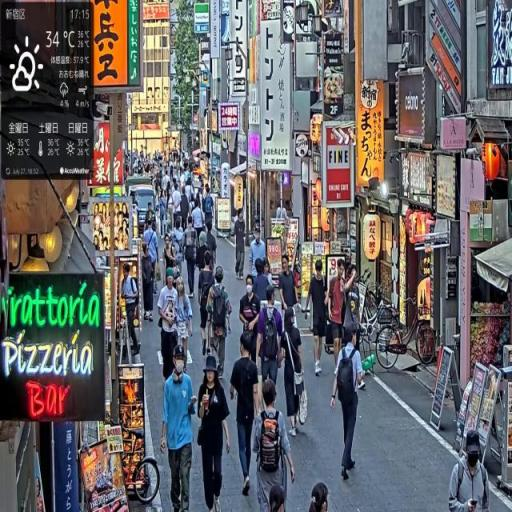person: (249, 378, 299, 512), (161, 346, 198, 512), (196, 352, 233, 512), (332, 327, 368, 482), (231, 331, 262, 497), (447, 426, 492, 512), (279, 309, 307, 439), (256, 286, 286, 399), (207, 265, 234, 383), (307, 257, 331, 380), (159, 270, 181, 386), (327, 260, 348, 377), (120, 262, 143, 363), (240, 276, 263, 368), (175, 277, 195, 375), (199, 256, 217, 360), (279, 254, 299, 336), (184, 218, 200, 299), (251, 227, 269, 279), (235, 210, 248, 282), (308, 481, 333, 512)
